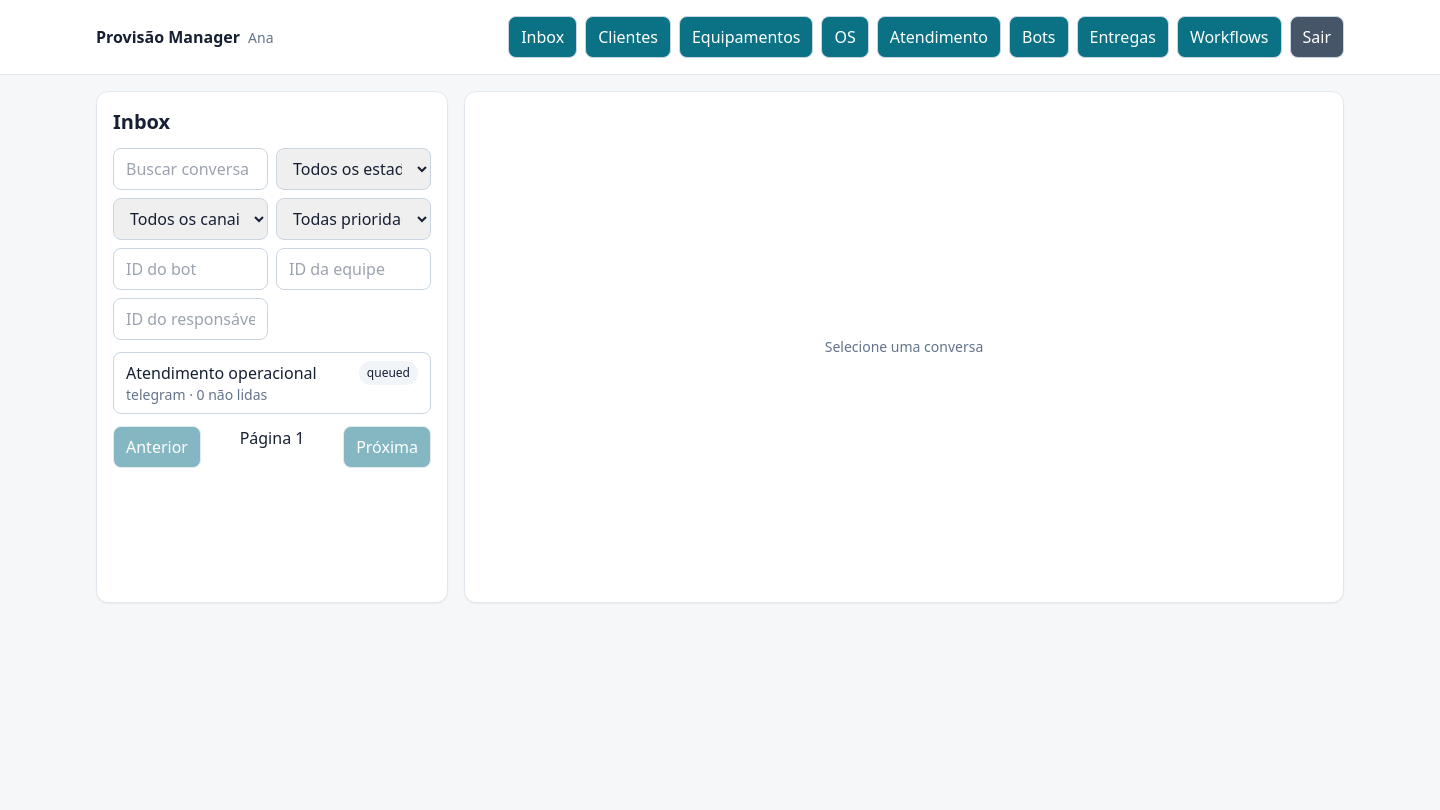
Scenario: operates assignment, automation and domain links through real conversation routes
Later steps or results of the test are not shown.
What coordinates should you click on to do the following:
click the text "Atendimento operacional"
I would click on:
 (221, 373)
Its box is left=126, top=362, right=317, bottom=384.
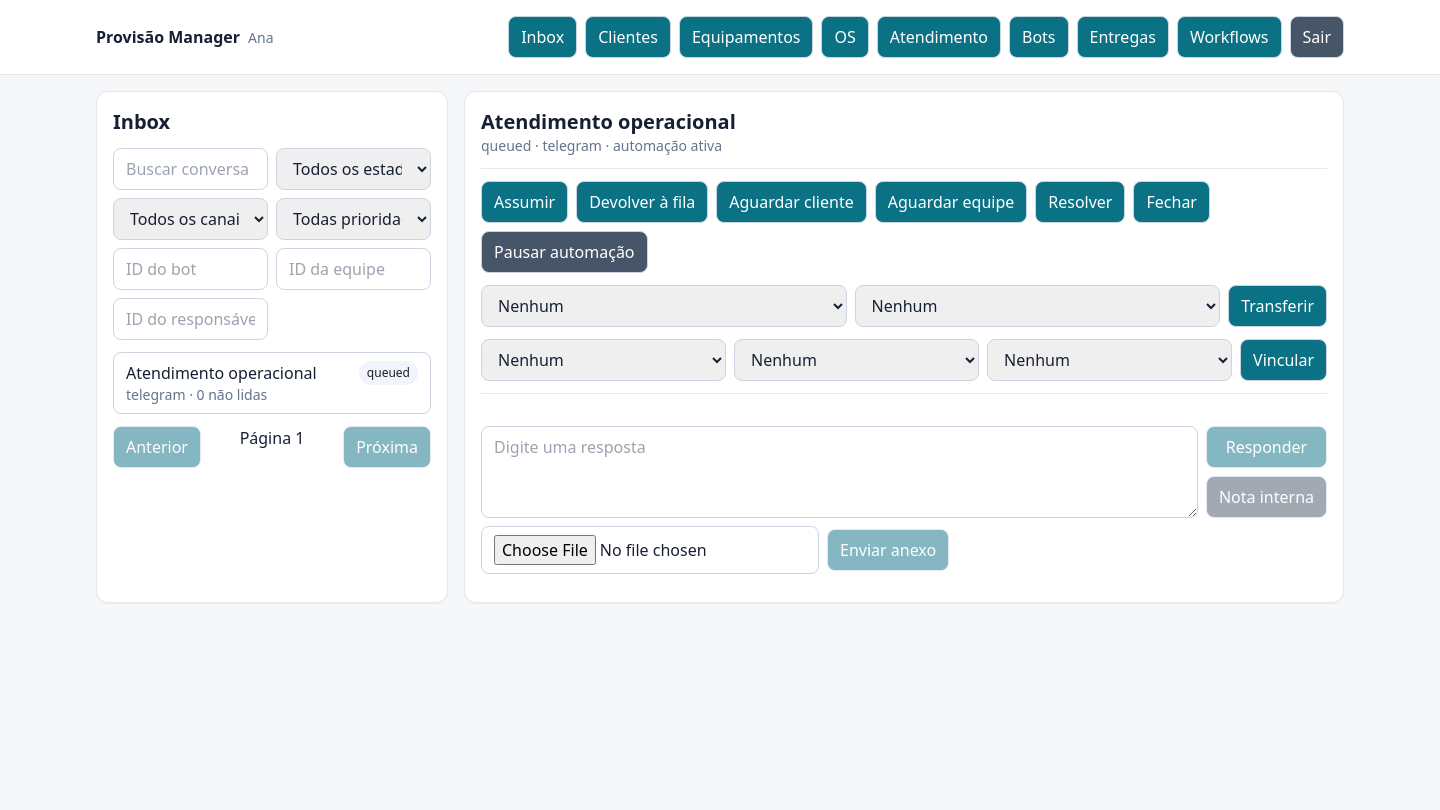
Now the button "Assumir" is shown, box left=481, top=181, right=568, bottom=223
